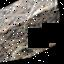Purslane: (0, 0, 59, 34)
